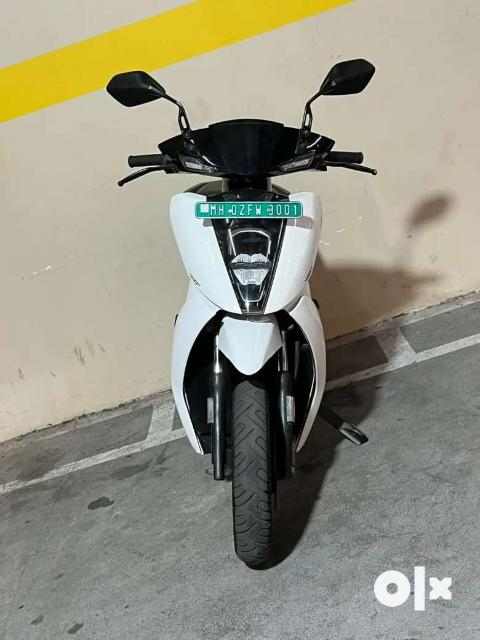Indian_Number_Plate: (198, 203, 302, 218)
